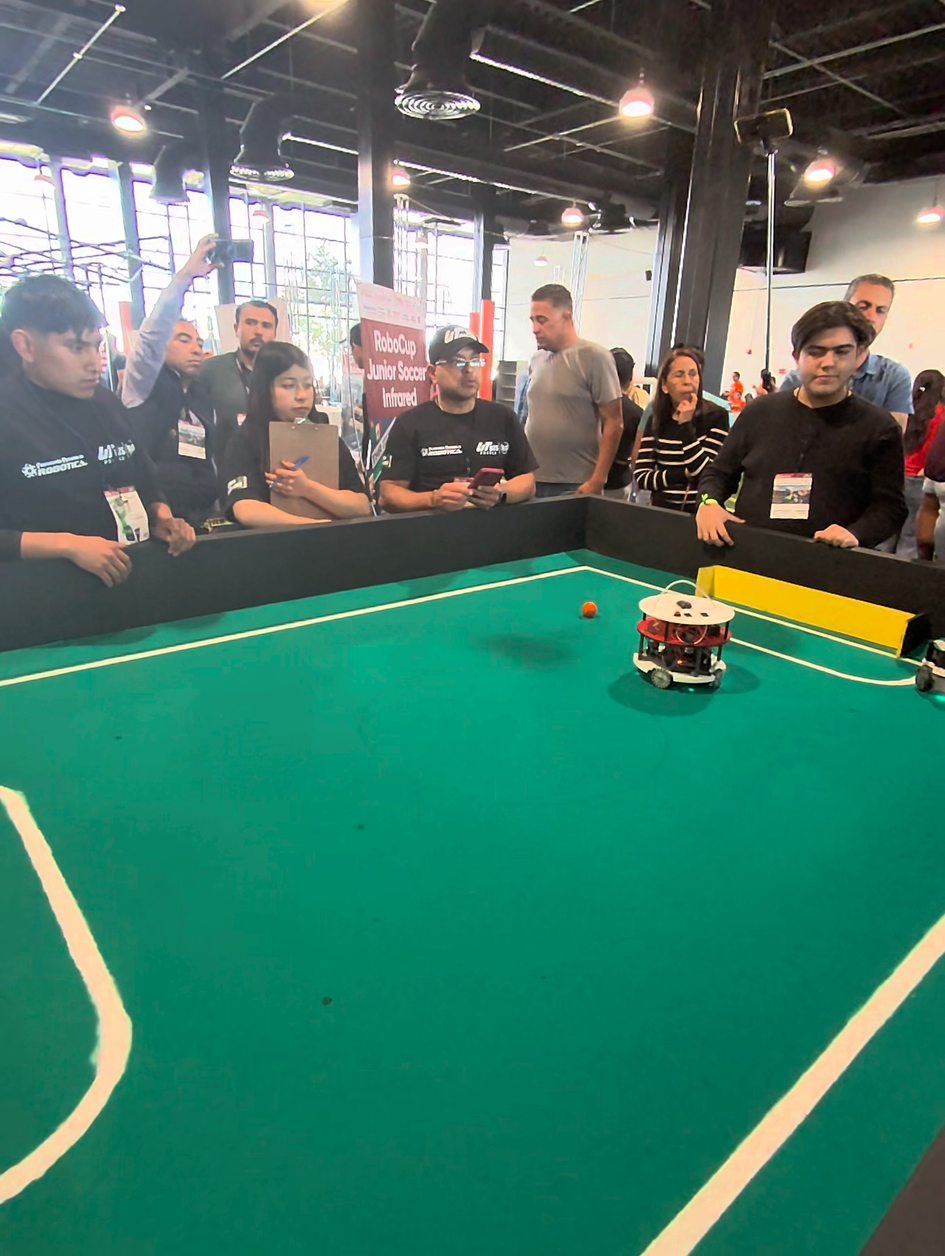Robot: (635, 563, 736, 699), (915, 634, 945, 708)
pelota: (580, 600, 597, 619)
